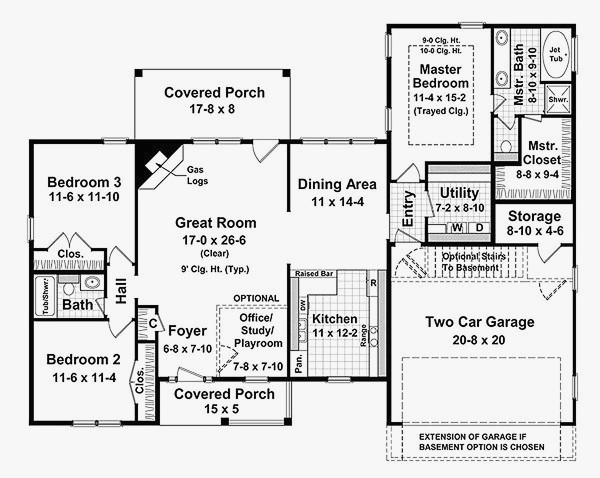door: (232, 147, 283, 186), (109, 244, 130, 261), (536, 248, 557, 265), (495, 117, 516, 134), (393, 227, 414, 244), (399, 161, 420, 178), (537, 284, 558, 301), (108, 322, 129, 339)
room: (384, 24, 497, 187), (28, 296, 159, 428), (488, 22, 580, 207), (286, 137, 392, 280), (286, 248, 393, 385), (423, 157, 497, 248), (492, 198, 577, 257)
wall: (387, 260, 390, 338), (134, 146, 137, 224), (155, 335, 158, 413), (286, 140, 289, 218), (29, 337, 32, 415), (29, 252, 32, 330), (573, 294, 576, 372), (28, 137, 31, 215), (491, 164, 494, 242), (572, 78, 575, 156)
